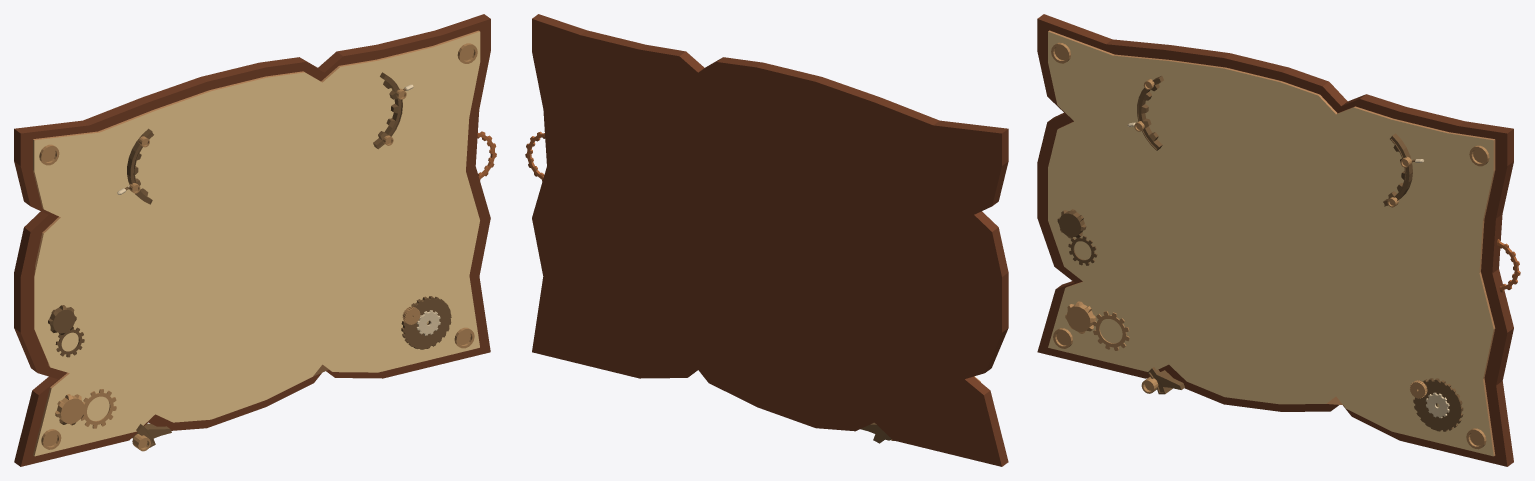
Rendered from canvas_v2.fbx.
The picture shows the model from 3 angles, left to right: view 1: azimuth 30°, elevation 25°; view 2: azimuth 150°, elevation 25°; view 3: azimuth 330°, elevation 25°; orthographic projection.
Visible parts, largest first — view 1: Canvas; view 2: Canvas; view 3: Canvas.
Boxes of the visible parts, x1=… form: Canvas: x1=14, y1=14, x2=496, y2=466; Canvas: x1=525, y1=14, x2=1008, y2=466; Canvas: x1=1037, y1=14, x2=1520, y2=466.
Bounding box in the file's own units: 189 × 132 × 9.54.
